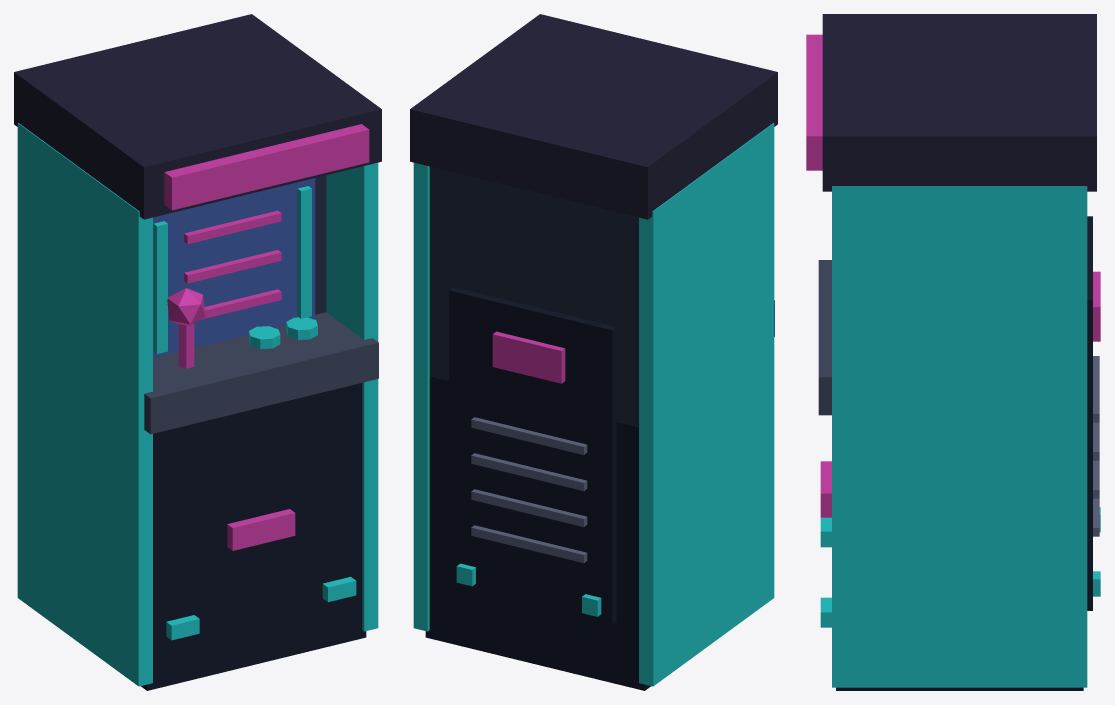
File: Neon_ArcadeCabinet_Showcase.glb
The picture shows the model from 3 angles, left to right: view 1: azimuth 30°, elevation 25°; view 2: azimuth 150°, elevation 25°; view 3: azimuth 270°, elevation 25°; orthographic projection. The views are drawn at different scales.
Parts seen in each view (by area): view 1: Neon_ArcadeCabinet_Showcase; view 2: Neon_ArcadeCabinet_Showcase; view 3: Neon_ArcadeCabinet_Showcase.
Boxes of the visible parts, left/top/right/bottom form: Neon_ArcadeCabinet_Showcase: left=14, top=14, right=381, bottom=690; Neon_ArcadeCabinet_Showcase: left=410, top=14, right=777, bottom=690; Neon_ArcadeCabinet_Showcase: left=806, top=14, right=1100, bottom=690.
Bounding box in the file's own units: 0.765 × 1.62 × 0.7725.
